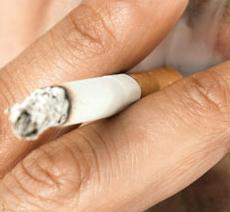smoke: (8, 67, 185, 141)
